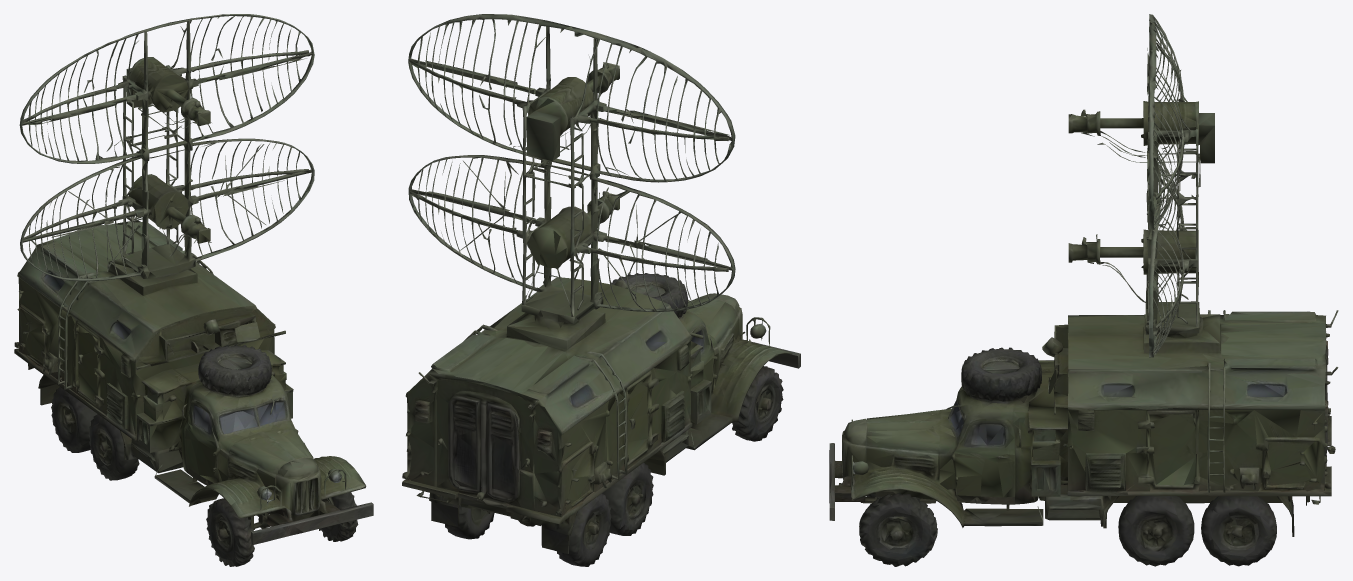
The picture shows the model from 3 angles, left to right: view 1: azimuth 30°, elevation 25°; view 2: azimuth 150°, elevation 25°; view 3: azimuth 270°, elevation 25°; orthographic projection. The views are drawn at different scales.
Visible parts, largest first — view 1: than, ang_ten; view 2: than, ang_ten; view 3: than, ang_ten.
Boxes of the visible parts, bbox=[...] form: than: bbox=[14, 216, 373, 566]; ang_ten: bbox=[19, 14, 314, 281]; than: bbox=[402, 273, 800, 566]; ang_ten: bbox=[408, 14, 735, 328]; than: bbox=[829, 310, 1338, 566]; ang_ten: bbox=[1068, 14, 1214, 357].
Bounding box in the file's own units: 5.05 × 7.26 × 6.9.
Materials: 1 (1 with a texture image).
